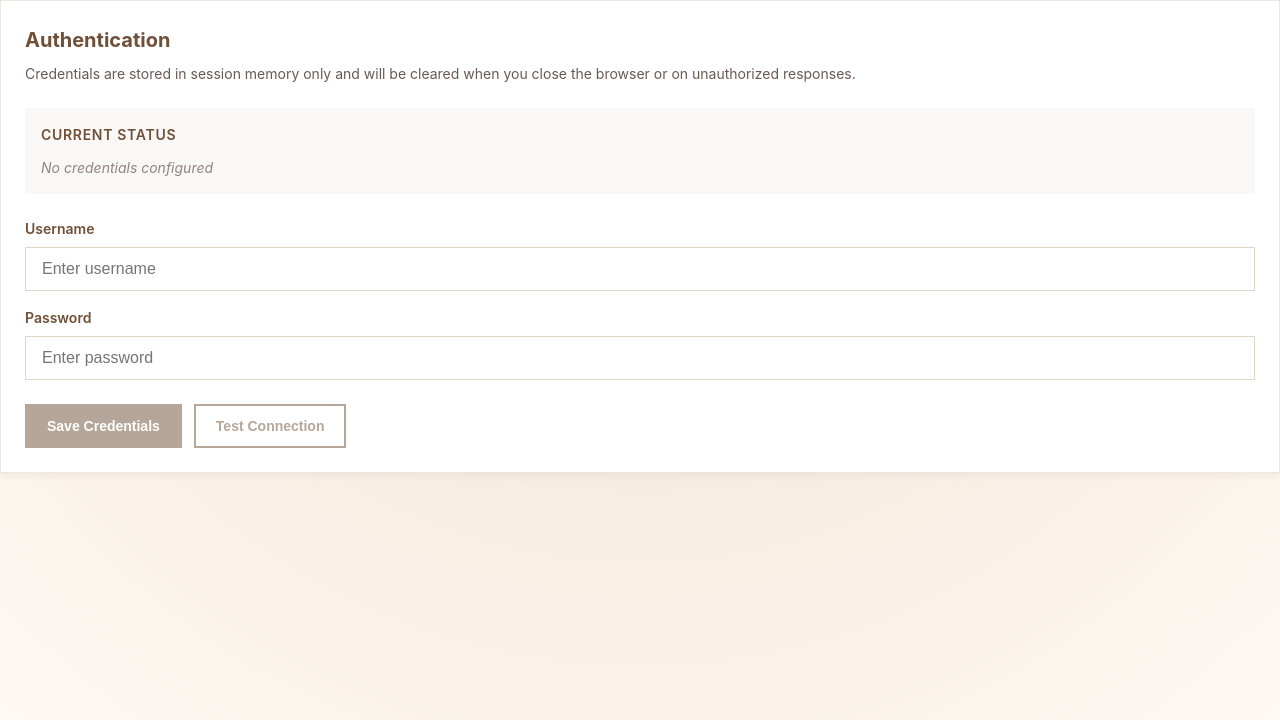
Scenario: AuthSettingsPanel › Validation › enables save button when both fields have valid values
In the field labelled "Username": {"x": 640, "y": 269} x1=25 y1=247 x2=1255 y2=291, type "admin"
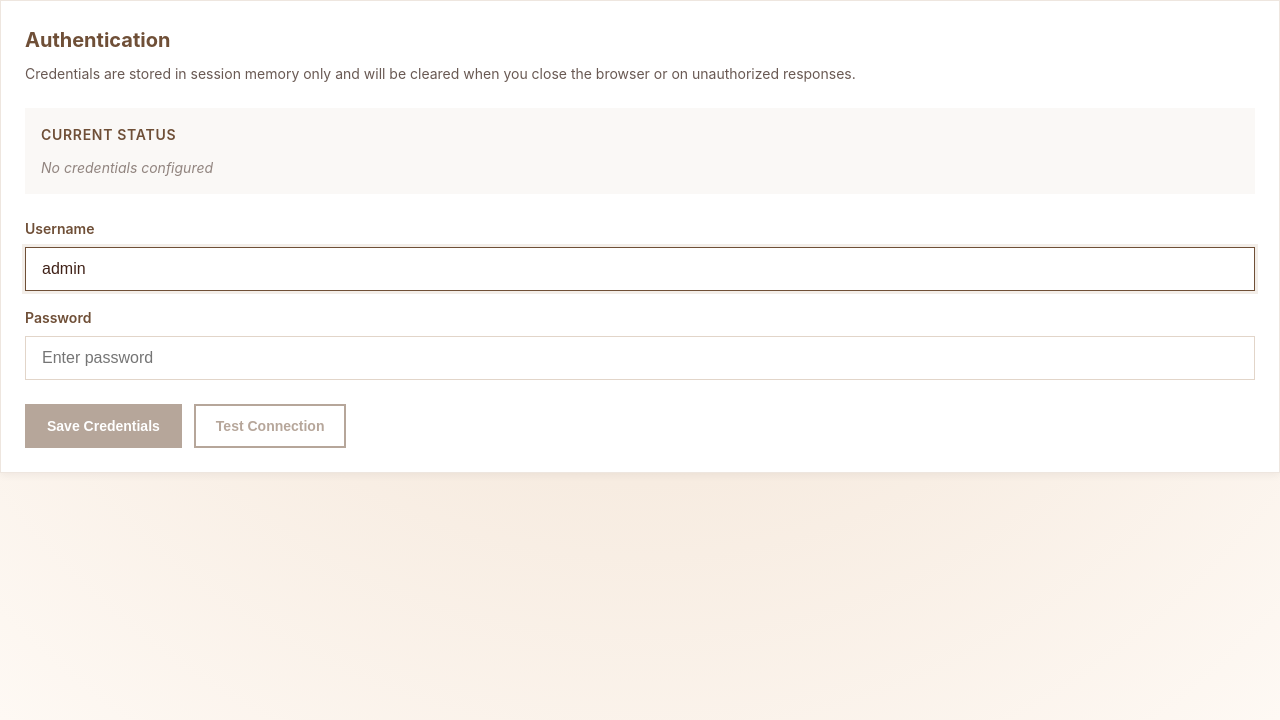
In the password field labelled "Password": {"x": 640, "y": 358} x1=25 y1=336 x2=1255 y2=380, type "secret"
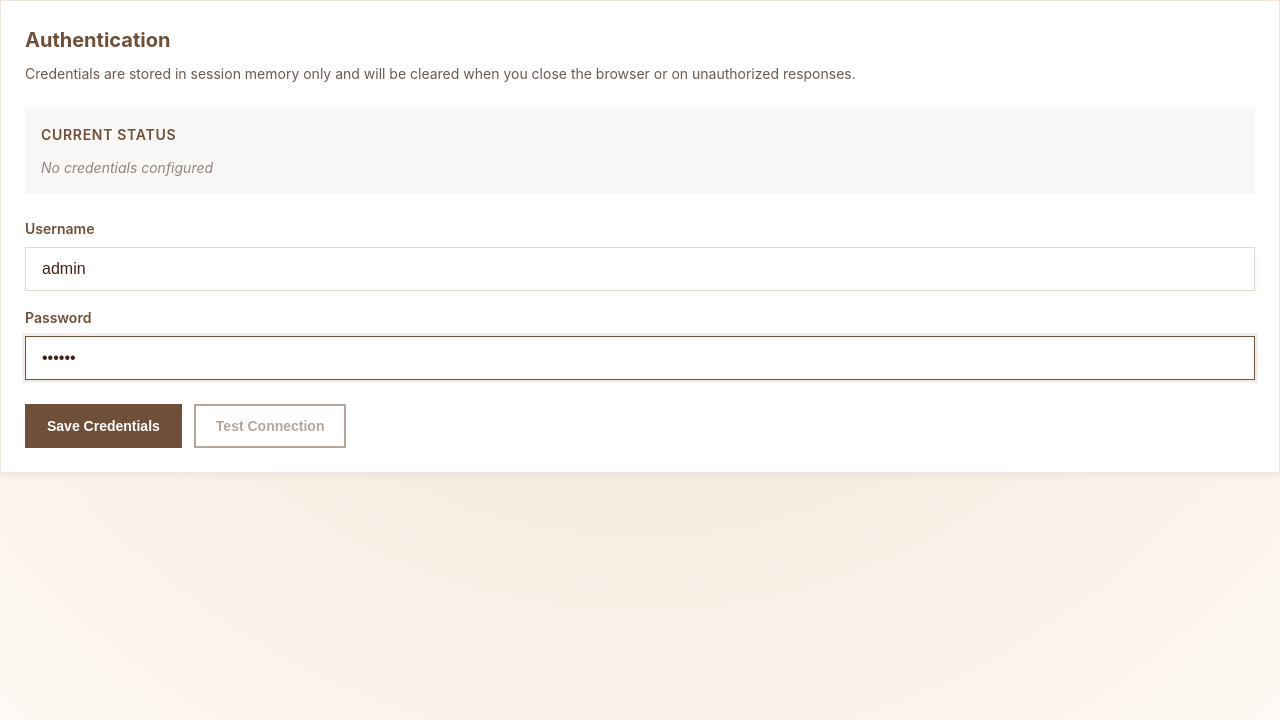
Expected: the button "Save Credentials" is enabled, x1=25 y1=404 x2=182 y2=448
